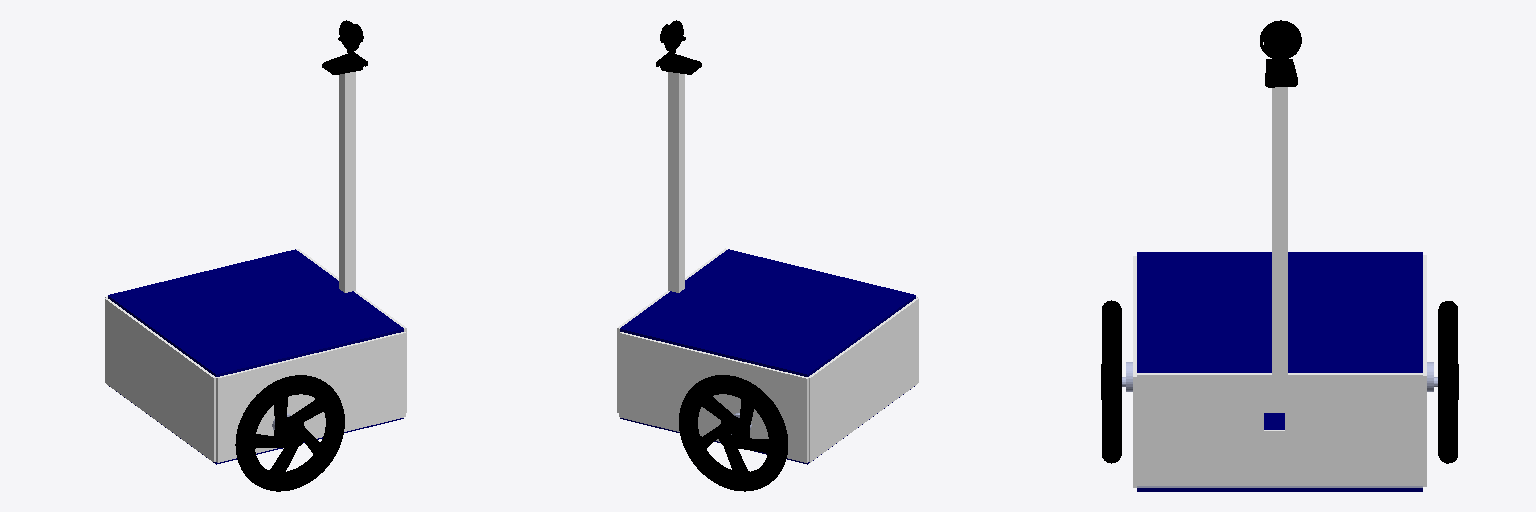
The robot description file, URDF, robot "robot":
<?xml version="1.0" encoding="utf-8"?>
<!-- This URDF was automatically created by SolidWorks to URDF Exporter! Originally created by Stephen Brawner (brawner@gmail.com) 
     Commit Version: 1.6.0-4-g7f85cfe  Build Version: 1.6.7995.38578
     For more information, please see http://wiki.ros.org/sw_urdf_exporter -->
<robot
  name="robot">
  <link
    name="base_link">
    <inertial>
      <origin
        xyz="0.14971 -0.27802 0.15406"
        rpy="0 0 0" />
      <mass
        value="1.232" />
      <inertia
        ixx="0.028709"
        ixy="1.0903E-17"
        ixz="1.2318E-17"
        iyy="0.028709"
        iyz="3.8324E-18"
        izz="0.048069" />
    </inertial>
    <visual>
      <origin
        xyz="0 0 0"
        rpy="0 0 0" />
      <geometry>
        <mesh
          filename="package://example-robot-data/robots/custom_mobile_robots/custom_mobile_robot_description/meshes/base_link.dae" />
      </geometry>
      <material
        name="">
        <color
          rgba="0.8 0.81961 0.93333 1" />
      </material>
    </visual>
    <collision>
      <origin
        xyz="0 0 0"
        rpy="0 0 0" />
      <geometry>
        <mesh
          filename="package://example-robot-data/robots/custom_mobile_robots/custom_mobile_robot_description/meshes/base_link.dae" />
      </geometry>
    </collision>
  </link>
  <link
    name="topcover">
    <inertial>
      <origin
        xyz="0.2913 -0.075 -0.31528"
        rpy="0 0 0" />
      <mass
        value="1.3108" />
      <inertia
        ixx="0.013383"
        ixy="-1.2052E-20"
        ixz="-1.5056E-18"
        iyy="0.026761"
        iyz="0"
        izz="0.013383" />
    </inertial>
    <visual>
      <origin
        xyz="0 0 0"
        rpy="0 0 0" />
      <geometry>
        <mesh
          filename="package://example-robot-data/robots/custom_mobile_robots/custom_mobile_robot_description/meshes/topcover.dae" />
      </geometry>
      <material
        name="">
        <color
          rgba="0 0 0.5 0.35" />
      </material>
    </visual>
    <collision>
      <origin
        xyz="0 0 0"
        rpy="0 0 0" />
      <geometry>
        <mesh
          filename="package://example-robot-data/robots/custom_mobile_robots/custom_mobile_robot_description/meshes/topcover.dae" />
      </geometry>
    </collision>
  </link>
  <joint
    name="topcover"
    type="fixed">
    <origin
      xyz="-0.14159 -0.5933 0.22906"
      rpy="1.5708 0 0" />
    <parent
      link="base_link" />
    <child
      link="topcover" />
    <axis
      xyz="0 0 0" />
  </joint>
  <link
    name="camerapole">
    <inertial>
      <origin
        xyz="0.2536 0.01 -0.0658"
        rpy="0 0 0" />
      <mass
        value="0.16" />
      <inertia
        ixx="1.0667E-05"
        ixy="-1.2787E-20"
        ixz="1.0994E-19"
        iyy="0.0021387"
        iyz="8.5389E-23"
        izz="0.0021387" />
    </inertial>
    <visual>
      <origin
        xyz="0 0 0"
        rpy="0 0 0" />
      <geometry>
        <mesh
          filename="package://example-robot-data/robots/custom_mobile_robots/custom_mobile_robot_description/meshes/camerapole.dae" />
      </geometry>
      <material
        name="">
        <color
          rgba="192 192 192 1" />
      </material>
    </visual>
    <collision>
      <origin
        xyz="0 0 0"
        rpy="0 0 0" />
      <geometry>
        <mesh
          filename="package://example-robot-data/robots/custom_mobile_robots/custom_mobile_robot_description/meshes/camerapole.dae" />
      </geometry>
    </collision>
  </link>
  <joint
    name="camerapole"
    type="fixed">
    <origin
      xyz="0.30971 -0.34384 0.68236"
      rpy="1.5708 1.5708 0" />
    <parent
      link="base_link" />
    <child
      link="camerapole" />
    <axis
      xyz="0 0 0" />
  </joint>
  <link
    name="camera">
    <inertial>
      <origin
        xyz="0.0017627 -0.025373 -0.024805"
        rpy="0 0 0" />
      <mass
        value="0.056475" />
      <inertia
        ixx="1.2826E-05"
        ixy="4.6112E-11"
        ixz="-2.5744E-11"
        iyy="1.5962E-05"
        iyz="-1.0096E-06"
        izz="1.0085E-05" />
    </inertial>
    <visual>
      <origin
        xyz="0 0 0"
        rpy="0 0 0" />
      <geometry>
        <mesh
          filename="package://example-robot-data/robots/custom_mobile_robots/custom_mobile_robot_description/meshes/camera.dae" />
      </geometry>
      <material
        name="">
        <color
          rgba="0 0 0 1" />
      </material>
    </visual>
    <collision>
      <origin
        xyz="0 0 0"
        rpy="0 0 0" />
      <geometry>
        <mesh
          filename="package://example-robot-data/robots/custom_mobile_robots/custom_mobile_robot_description/meshes/camera.dae" />
      </geometry>
    </collision>
  </link>
  <joint
    name="camera"
    type="continuous">
    <origin
      xyz="0 0.0200000000000002 -0.0657999999999869"
      rpy="1.47548340501541 1.5707963267949 0" />
    <parent
      link="camerapole" />
    <child
      link="camera" />
    <axis
      xyz="0 0.99546116114247 -0.0951686747668852" />
  </joint>
  <link
    name="motorclamp1">
    <inertial>
      <origin
        xyz="0.009919 -0.0070219 -0.0059495"
        rpy="0 0 0" />
      <mass
        value="0.017347" />
      <inertia
        ixx="2.8855E-06"
        ixy="3.175E-07"
        ixz="-1.4271E-22"
        iyy="9.433E-06"
        iyz="-2.2744E-22"
        izz="1.1839E-05" />
    </inertial>
    <visual>
      <origin
        xyz="0 0 0"
        rpy="0 0 0" />
      <geometry>
        <mesh
          filename="package://example-robot-data/robots/custom_mobile_robots/custom_mobile_robot_description/meshes/motorclamp1.dae" />
      </geometry>
      <material
        name="">
        <color
          rgba="0.79216 0.81961 0.93333 1" />
      </material>
    </visual>
    <collision>
      <origin
        xyz="0 0 0"
        rpy="0 0 0" />
      <geometry>
        <mesh
          filename="package://example-robot-data/robots/custom_mobile_robots/custom_mobile_robot_description/meshes/motorclamp1.dae" />
      </geometry>
    </collision>
  </link>
  <joint
    name="motorclamp1"
    type="fixed">
    <origin
      xyz="0.0835361437494156 -0.452618990455206 0.121441134925834"
      rpy="1.5707963267949 0 0" />
    <parent
      link="base_link" />
    <child
      link="motorclamp1" />
    <axis
      xyz="0 0 0" />
  </joint>
  <link
    name="motor1">
    <inertial>
      <origin
        xyz="0.0011314641560948 6.70085677166032E-05 -0.0144620677025696"
        rpy="0 0 0" />
      <mass
        value="0.0622953735077123" />
      <inertia
        ixx="1.00827961176307E-05"
        ixy="3.17637355220363E-22"
        ixz="3.5237894094759E-22"
        iyy="1.00295314289269E-05"
        iyz="1.38818387636653E-07"
        izz="1.02711944162877E-05" />
    </inertial>
    <visual>
      <origin
        xyz="0 0 0"
        rpy="0 0 0" />
      <geometry>
        <mesh
          filename="package://example-robot-data/robots/custom_mobile_robots/custom_mobile_robot_description/meshes/motor1.dae" />
      </geometry>
      <material
        name="">
        <color
          rgba="0.792156862745098 0.819607843137255 0.933333333333333 1" />
      </material>
    </visual>
    <collision>
      <origin
        xyz="0 0 0"
        rpy="0 0 0" />
      <geometry>
        <mesh
          filename="package://example-robot-data/robots/custom_mobile_robots/custom_mobile_robot_description/meshes/motor1.dae" />
      </geometry>
    </collision>
  </link>
  <joint
    name="motor1"
    type="continuous">
    <origin
      xyz="0.01 0 0"
      rpy="0 0 -0.061731" />
    <parent
      link="motorclamp1" />
    <child
      link="motor1" />
    <axis
      xyz="0 0 1" />
  </joint>
  <link
    name="wheel1">
    <inertial>
      <origin
        xyz="4.1633E-17 1.249E-16 0.0125"
        rpy="0 0 0" />
      <mass
        value="3.0701" />
      <inertia
        ixx="0.0094347"
        ixy="2.7105E-18"
        ixz="-2.0382E-19"
        iyy="0.0094347"
        iyz="1.3375E-19"
        izz="0.018654" />
    </inertial>
    <visual>
      <origin
        xyz="0 0 0"
        rpy="0 0 0" />
      <geometry>
        <mesh
          filename="package://example-robot-data/robots/custom_mobile_robots/custom_mobile_robot_description/meshes/wheel1.dae" />
      </geometry>
      <material
        name="">
        <color
          rgba="0 0 0 1" />
      </material>
    </visual>
    <collision>
      <origin
        xyz="0 0 0"
        rpy="0 0 0" />
      <geometry>
        <mesh
          filename="package://example-robot-data/robots/custom_mobile_robots/custom_mobile_robot_description/meshes/wheel1.dae" />
      </geometry>
    </collision>
  </link>
  <joint
    name="wheel1`"
    type="revolute">
    <origin
      xyz="0.00113146415609412 -0.00681576240594288 0.019200504127415"
      rpy="0 0 -0.0466862389972134" />
    <parent
      link="motor1" />
    <child
      link="wheel1" />
    <axis
      xyz="0 0 1" />
    <limit
      lower="0"
      upper="0"
      effort="0"
      velocity="0" />
  </joint>
  <link
    name="motorclamp2">
    <inertial>
      <origin
        xyz="0.00991903249259808 -0.00702191432039451 -0.00594949587258495"
        rpy="0 0 0" />
      <mass
        value="0.0173472817028446" />
      <inertia
        ixx="2.88547454674582E-06"
        ixy="3.1750180352986E-07"
        ixz="-1.23512494461037E-22"
        iyy="9.43304633892377E-06"
        iyz="-5.72978926409721E-22"
        izz="1.18386136024184E-05" />
    </inertial>
    <visual>
      <origin
        xyz="0 0 0"
        rpy="0 0 0" />
      <geometry>
        <mesh
          filename="package://example-robot-data/robots/custom_mobile_robots/custom_mobile_robot_description/meshes/motorclamp2.dae" />
      </geometry>
      <material
        name="">
        <color
          rgba="0.792156862745098 0.819607843137255 0.933333333333333 1" />
      </material>
    </visual>
    <collision>
      <origin
        xyz="0 0 0"
        rpy="0 0 0" />
      <geometry>
        <mesh
          filename="package://example-robot-data/robots/custom_mobile_robots/custom_mobile_robot_description/meshes/motorclamp2.dae" />
      </geometry>
    </collision>
  </link>
  <joint
    name="motorclamp2"
    type="fixed">
    <origin
      xyz="0.083573 -0.11532 0.12144"
      rpy="1.5708 0 0" />
    <parent
      link="base_link" />
    <child
      link="motorclamp2" />
    <axis
      xyz="0 0 0" />
  </joint>
  <link
    name="motor2">
    <inertial>
      <origin
        xyz="-0.00114091742437558 -5.59543664885309E-06 -0.00256307595739959"
        rpy="0 0 0" />
      <mass
        value="0.0622953735077122" />
      <inertia
        ixx="1.00827961176307E-05"
        ixy="5.29395592033938E-23"
        ixz="3.77918142360165E-22"
        iyy="1.00295314289269E-05"
        iyz="1.38818387636653E-07"
        izz="1.02711944162877E-05" />
    </inertial>
    <visual>
      <origin
        xyz="0 0 0"
        rpy="0 0 0" />
      <geometry>
        <mesh
          filename="package://example-robot-data/robots/custom_mobile_robots/custom_mobile_robot_description/meshes/motor2.dae" />
      </geometry>
      <material
        name="">
        <color
          rgba="0.792156862745098 0.819607843137255 0.933333333333333 1" />
      </material>
    </visual>
    <collision>
      <origin
        xyz="0 0 0"
        rpy="0 0 0" />
      <geometry>
        <mesh
          filename="package://example-robot-data/robots/custom_mobile_robots/custom_mobile_robot_description/meshes/motor2.dae" />
      </geometry>
    </collision>
  </link>
  <joint
    name="motor2"
    type="continuous">
    <origin
      xyz="0.01 0 0"
      rpy="3.14159265358979 0 -3.13944414528986" />
    <parent
      link="motorclamp2" />
    <child
      link="motor2" />
    <axis
      xyz="0 0 1" />
  </joint>
  <link
    name="wheel2">
    <inertial>
      <origin
        xyz="5.5511E-17 8.3267E-17 -0.0125"
        rpy="0 0 0" />
      <mass
        value="3.0701" />
      <inertia
        ixx="0.0094347"
        ixy="2.9002E-18"
        ixz="-2.1593E-19"
        iyy="0.0094347"
        iyz="1.3138E-19"
        izz="0.018654" />
    </inertial>
    <visual>
      <origin
        xyz="0 0 0"
        rpy="0 0 0" />
      <geometry>
        <mesh
          filename="package://example-robot-data/robots/custom_mobile_robots/custom_mobile_robot_description/meshes/wheel2.dae" />
      </geometry>
      <material
        name="">
        <color
          rgba="0 0 0 1" />
      </material>
    </visual>
    <collision>
      <origin
        xyz="0 0 0"
        rpy="0 0 0" />
      <geometry>
        <mesh
          filename="package://example-robot-data/robots/custom_mobile_robots/custom_mobile_robot_description/meshes/wheel2.dae" />
      </geometry>
    </collision>
  </link>
  <joint
    name="wheel2"
    type="revolute">
    <origin
      xyz="-0.00114091742437562 -0.00688836641030763 0.030849495872585"
      rpy="3.14159265358979 0 3.09663167863098" />
    <parent
      link="motor2" />
    <child
      link="wheel2" />
    <axis
      xyz="0 0 1" />
    <limit
      lower="0"
      upper="0"
      effort="0"
      velocity="0" />
  </joint>
  <link
    name="castorwheel">
    <inertial>
      <origin
        xyz="0.016213 0.020589 -3.5773E-05"
        rpy="0 0 0" />
      <mass
        value="0.047654" />
      <inertia
        ixx="9.6734E-06"
        ixy="4.687E-07"
        ixz="6.9494E-10"
        iyy="1.1737E-05"
        iyz="-7.8849E-10"
        izz="1.3564E-05" />
    </inertial>
    <visual>
      <origin
        xyz="0 0 0"
        rpy="0 0 0" />
      <geometry>
        <mesh
          filename="package://example-robot-data/robots/custom_mobile_robots/custom_mobile_robot_description/meshes/castorwheel.dae" />
      </geometry>
      <material
        name="">
        <color
          rgba="0 0 0 1" />
      </material>
    </visual>
    <collision>
      <origin
        xyz="0 0 0"
        rpy="0 0 0" />
      <geometry>
        <mesh
          filename="package://example-robot-data/robots/custom_mobile_robots/custom_mobile_robot_description/meshes/castorwheel.dae" />
      </geometry>
    </collision>
  </link>
  <joint
    name="castorwheel"
    type="fixed">
    <origin
      xyz="0.31471 -0.27802 0.027055"
      rpy="1.5708 0 0.00093269" />
    <parent
      link="base_link" />
    <child
      link="castorwheel" />
    <axis
      xyz="0 0 0" />
    <limit
      lower="0"
      upper="0"
      effort="0"
      velocity="0" />
  </joint>
  <link
    name="sidecover">
    <inertial>
      <origin
        xyz="0 0 0"
        rpy="0 0 0" />
      <mass
        value="0" />
      <inertia
        ixx="0"
        ixy="0"
        ixz="0"
        iyy="0"
        iyz="0"
        izz="0" />
    </inertial>
    <visual>
      <origin
        xyz="0 0 0"
        rpy="0 0 0" />
      <geometry>
        <mesh
          filename="package://example-robot-data/robots/custom_mobile_robots/custom_mobile_robot_description/meshes/sidecover.dae" />
      </geometry>
      <material
        name="">
        <color
          rgba="1 1 1 1" />
      </material>
    </visual>
    <collision>
      <origin
        xyz="0 0 0"
        rpy="0 0 0" />
      <geometry>
        <mesh
          filename="package://example-robot-data/robots/custom_mobile_robots/custom_mobile_robot_description/meshes/sidecover.dae" />
      </geometry>
    </collision>
  </link>
  <joint
    name="sidecover"
    type="fixed">
    <origin
      xyz="0.32971327534043 -0.463019494582621 0.349983790955112"
      rpy="3.14159265358979 0 1.5707963267949" />
    <parent
      link="base_link" />
    <child
      link="sidecover" />
    <axis
      xyz="0 0 0" />
  </joint>
</robot>

--- Render facts (derived) ---
The picture shows the robot from 3 angles, left to right: view 1: azimuth 30°, elevation 25°; view 2: azimuth 150°, elevation 25°; view 3: azimuth 270°, elevation 25°; orthographic projection.
Robot: robot — 12 links, 11 joints (2 revolute, 3 continuous, 6 fixed); root link base_link; default pose: every joint at zero.
Links seen in each view (by area): view 1: sidecover, topcover, wheel1, camerapole, camera; view 2: sidecover, topcover, wheel2, camerapole, camera; view 3: topcover, sidecover, camerapole, wheel1, wheel2, camera, base_link.
Link boxes in pixels (x1,y1,x2,y2): sidecover: (105,249,406,462); topcover: (108,249,403,464); wheel1: (235,375,344,491); camerapole: (339,72,355,292); camera: (322,20,367,74); sidecover: (617,248,918,462); topcover: (620,249,915,464); wheel2: (679,375,787,491); camerapole: (668,72,684,292); camera: (656,20,701,74); topcover: (1137,252,1422,491); sidecover: (1133,255,1426,487); camerapole: (1272,87,1287,374); wheel1: (1101,300,1121,463); wheel2: (1438,301,1458,463); camera: (1260,20,1301,87); base_link: (1137,486,1422,487).
Size in the robot's own frame: 0.378 by 0.4373 by 0.6947 metres.
Meshes: 12 distinct files referenced, 11 mesh visuals loaded (11 Collada DAE); not drawn: 1 (reference not matched to a file when rendering).
